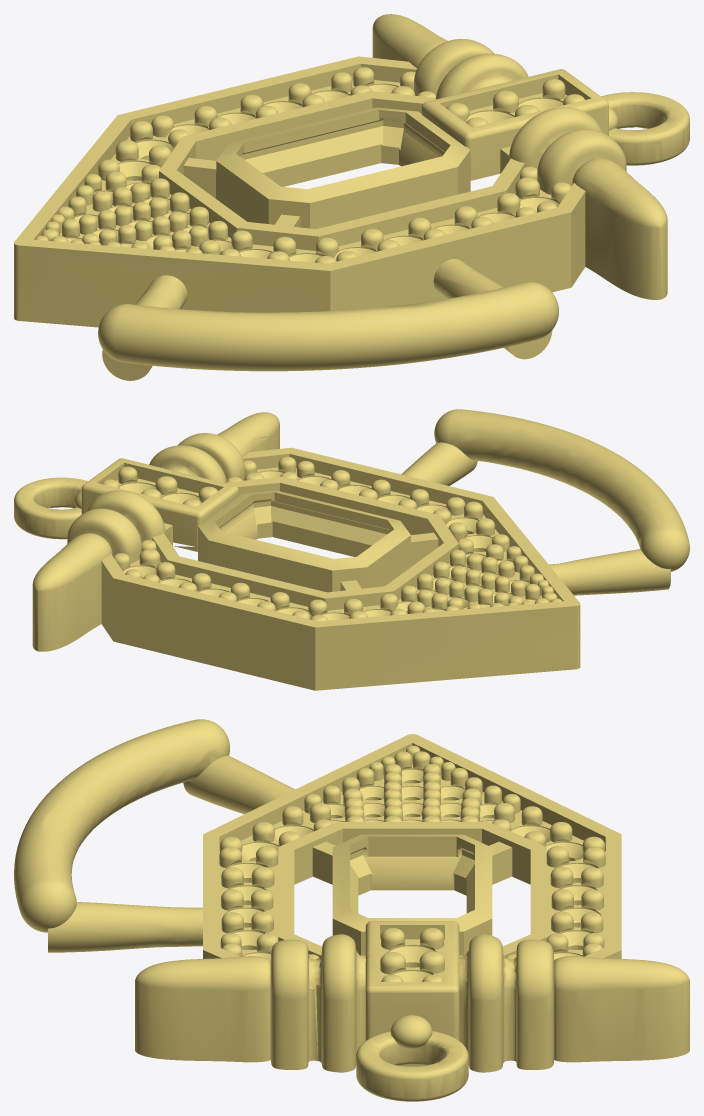
The model's file is kolyeler2-49.glb.
3 views of the same model, one above another, from view 1: azimuth 30°, elevation 25°; view 2: azimuth 150°, elevation 25°; view 3: azimuth 270°, elevation 25° (orthographic). The views are drawn at different scales.
Parts seen in each view (by area): view 1: Renderer Node; view 2: Renderer Node; view 3: Renderer Node.
Part boxes in pixels (box(x1,y1,x2,y2)): Renderer Node: box(14, 14, 689, 380); Renderer Node: box(14, 409, 689, 690); Renderer Node: box(14, 719, 689, 1101).
Bounding box in the file's own units: 24.31 × 3.82 × 21.04.
